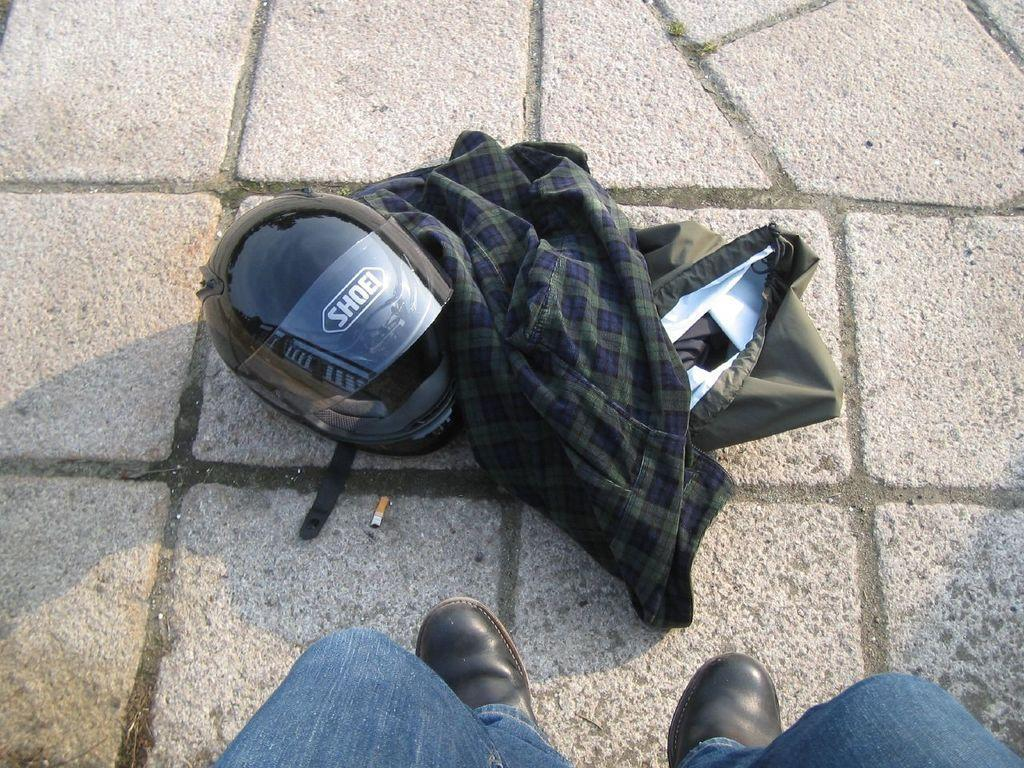helmet: (194, 187, 475, 458)
